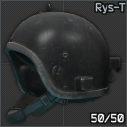Rys-T bulletproof helmet: (0, 0, 127, 127)
